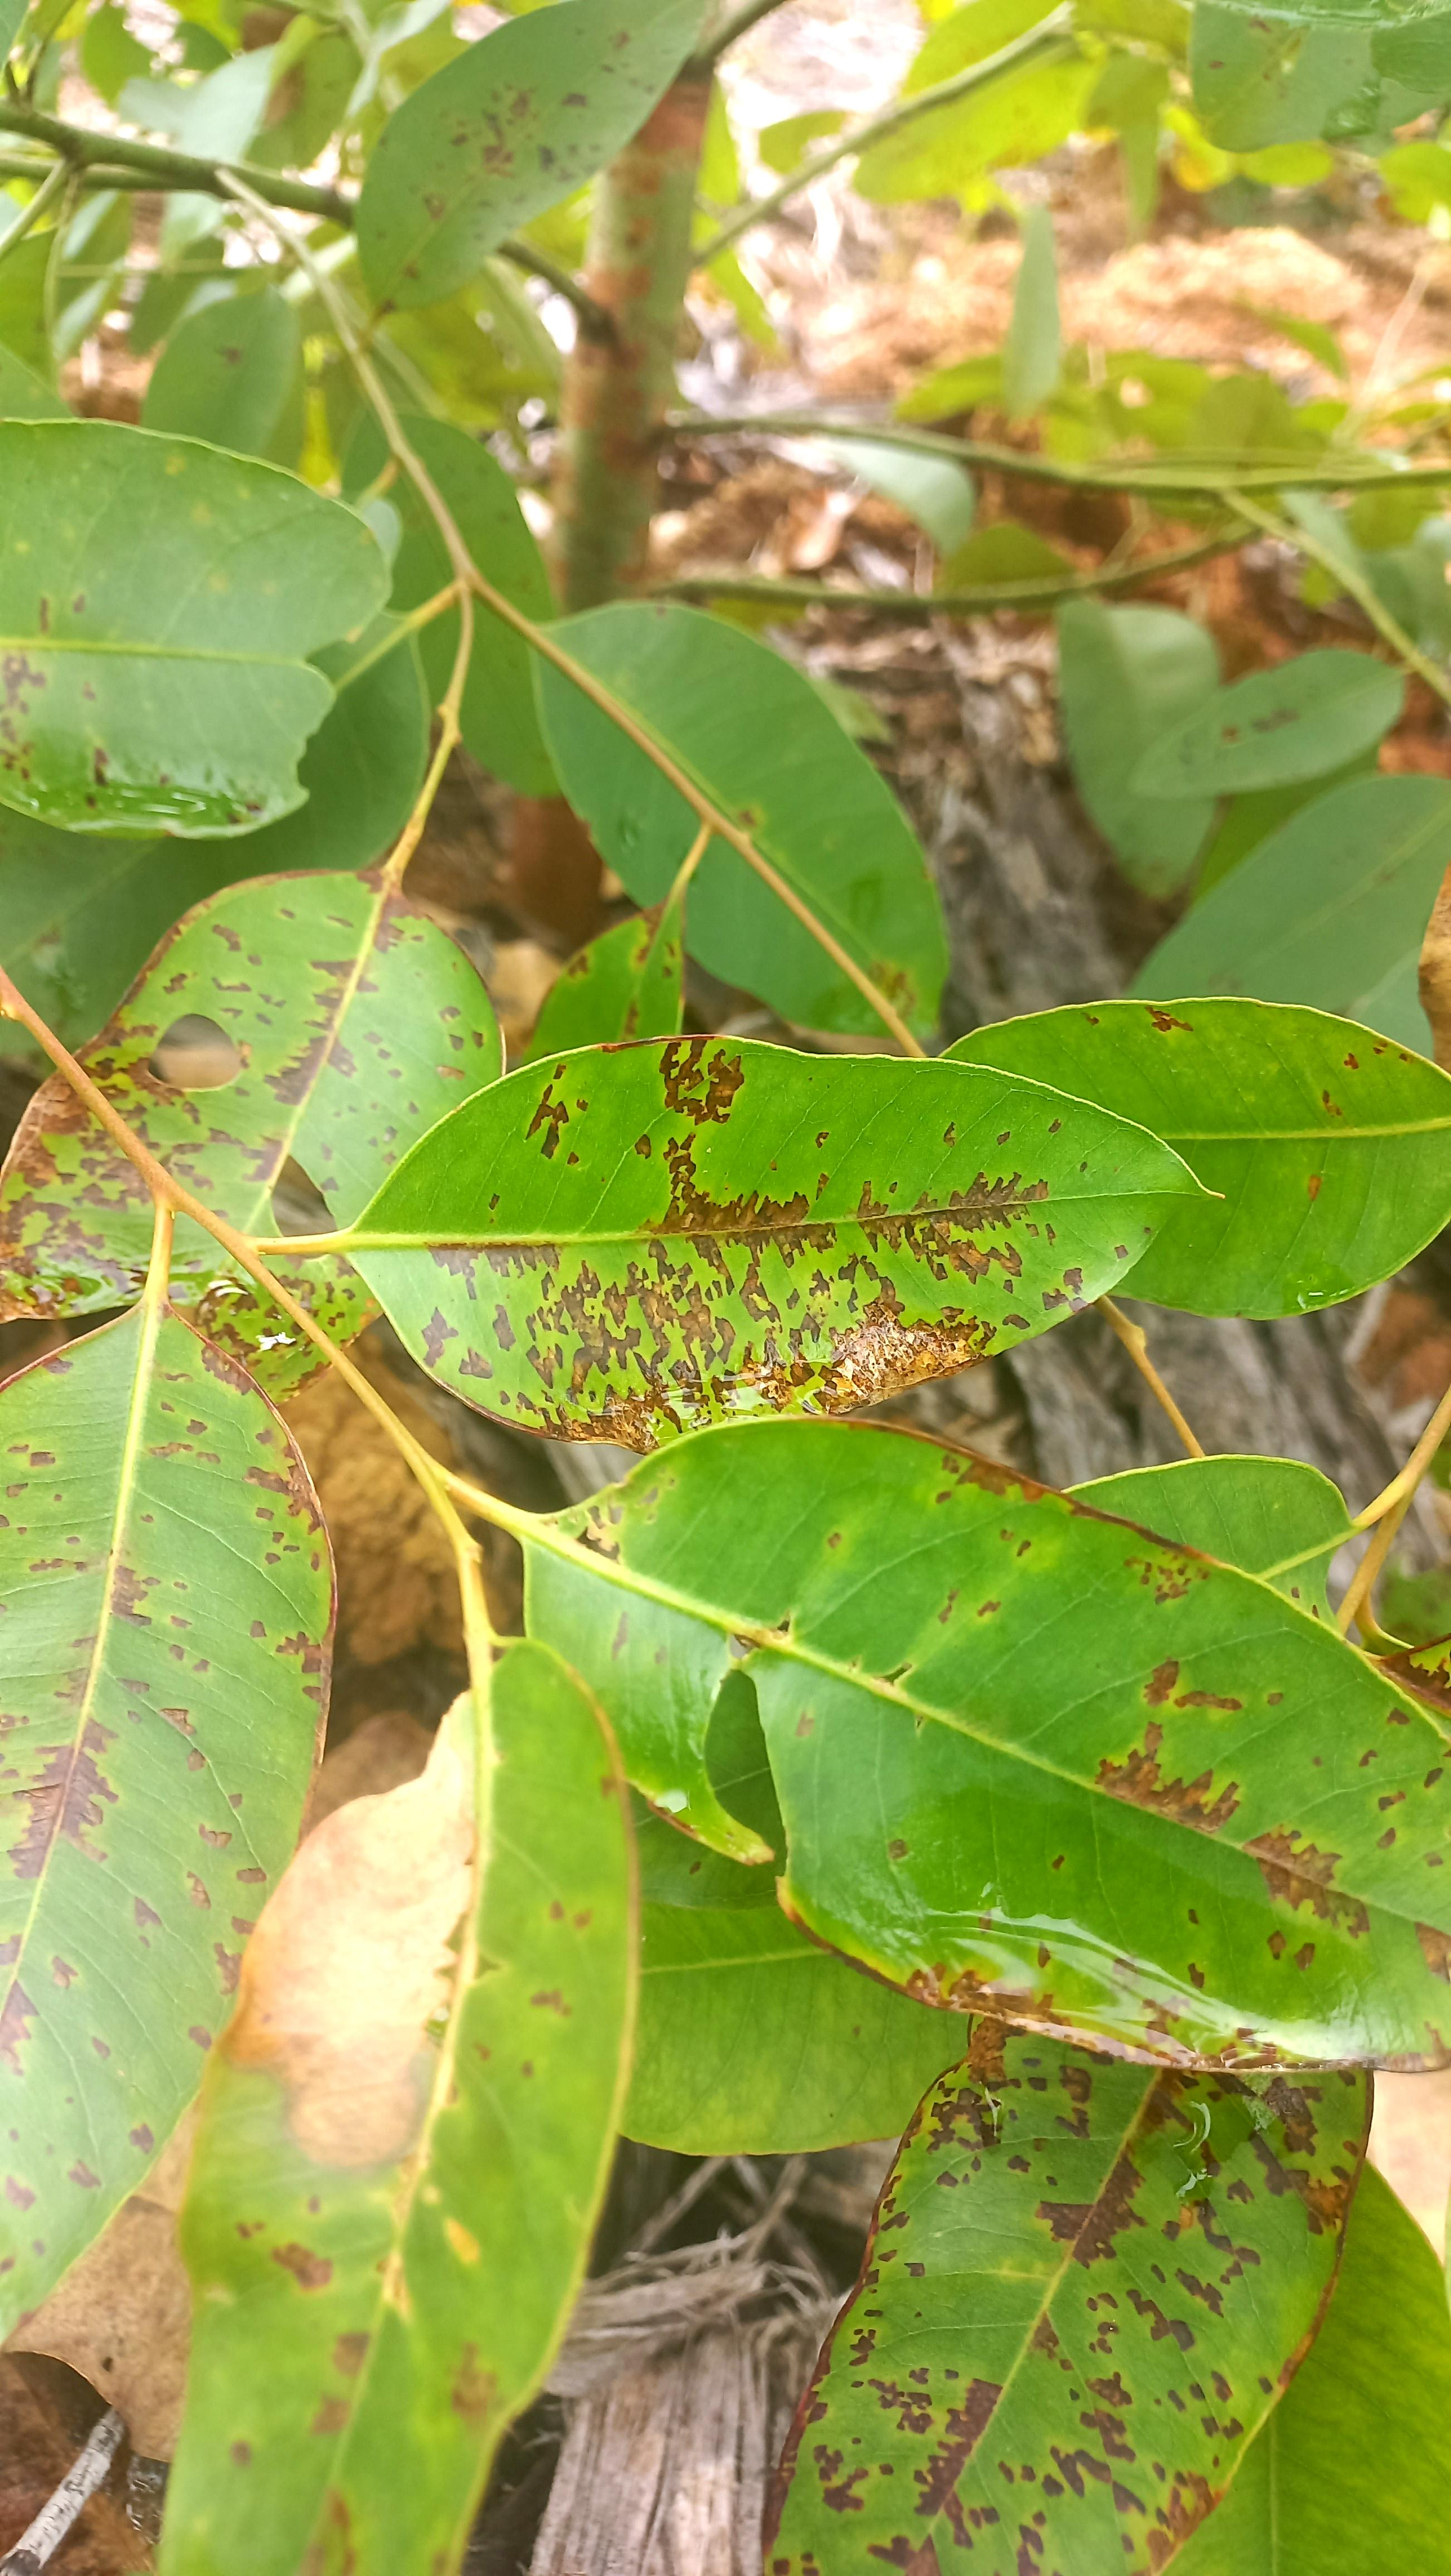Xanthomonas: (770, 2006, 1451, 2576), (0, 1389, 347, 2231), (425, 1070, 1023, 1445), (993, 1472, 1451, 1932), (0, 870, 391, 1325)
